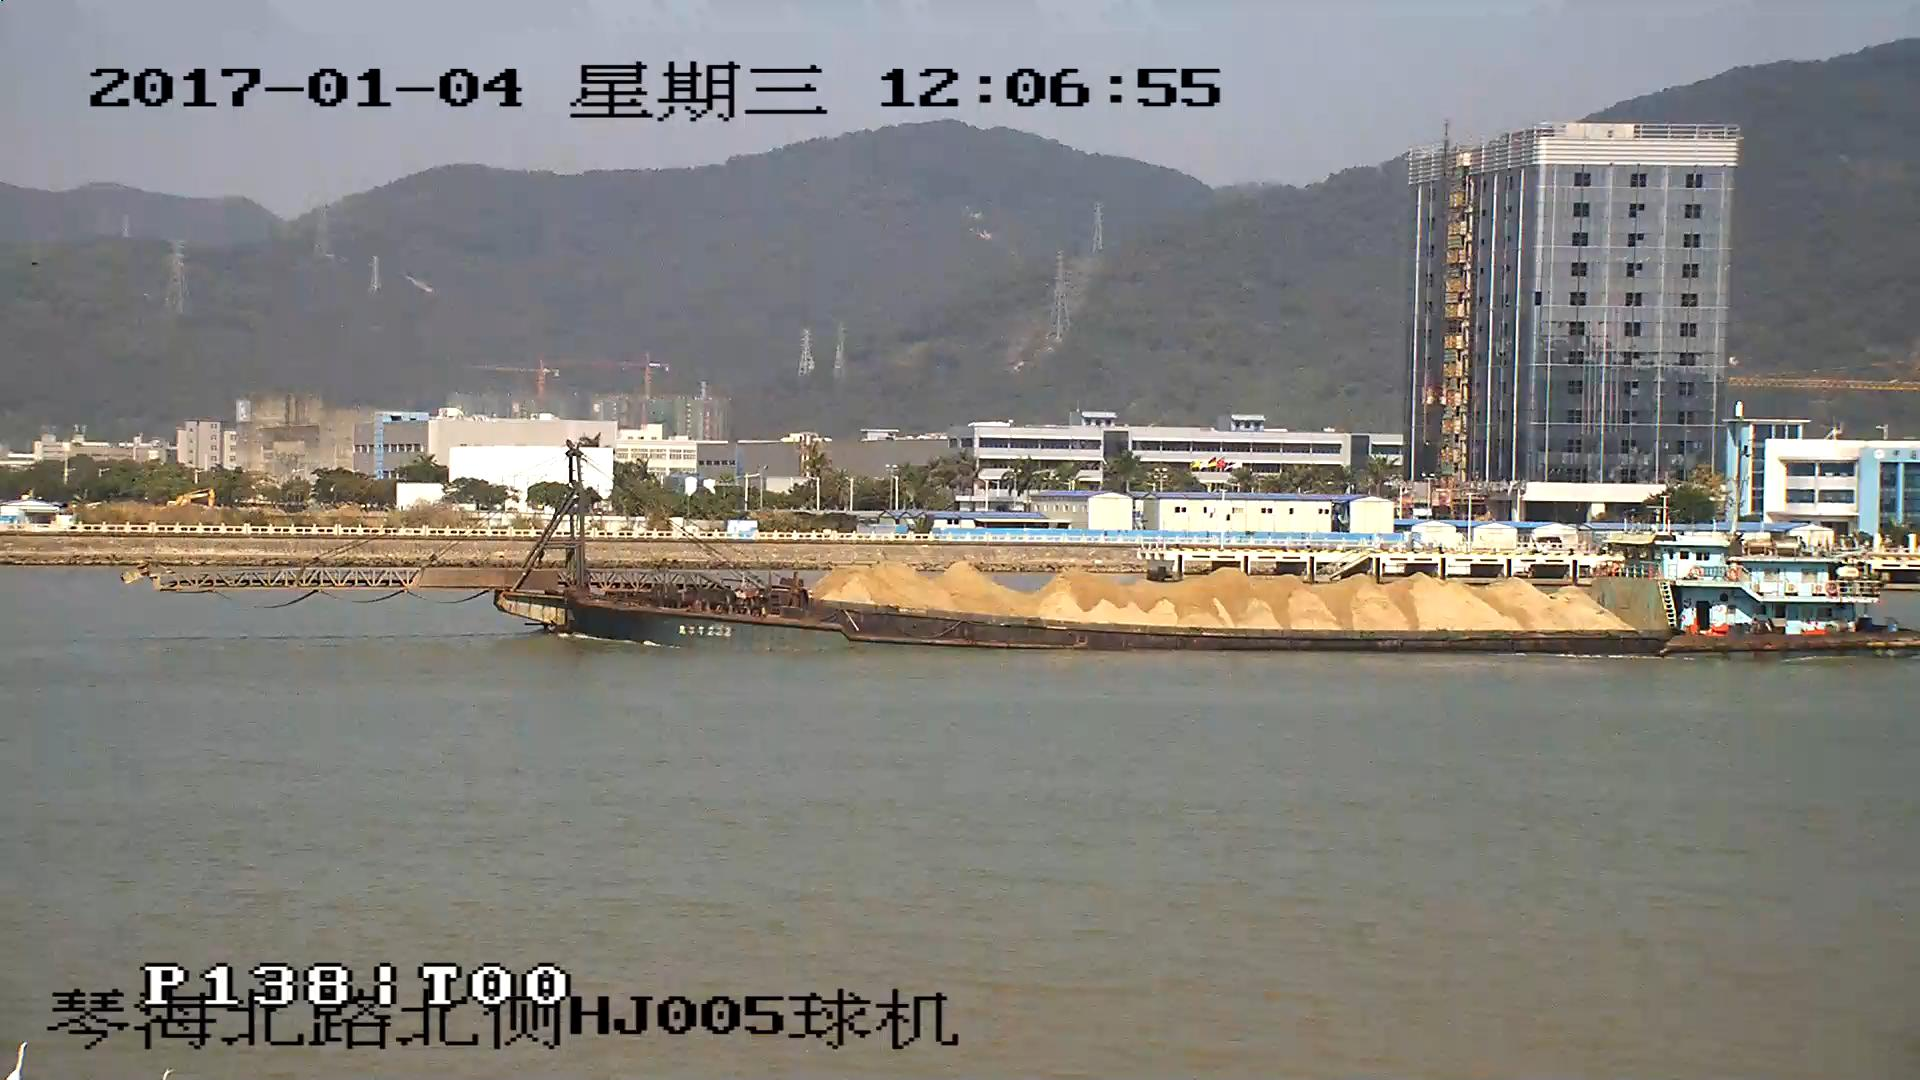ore carrier: (141, 446, 1920, 657)
